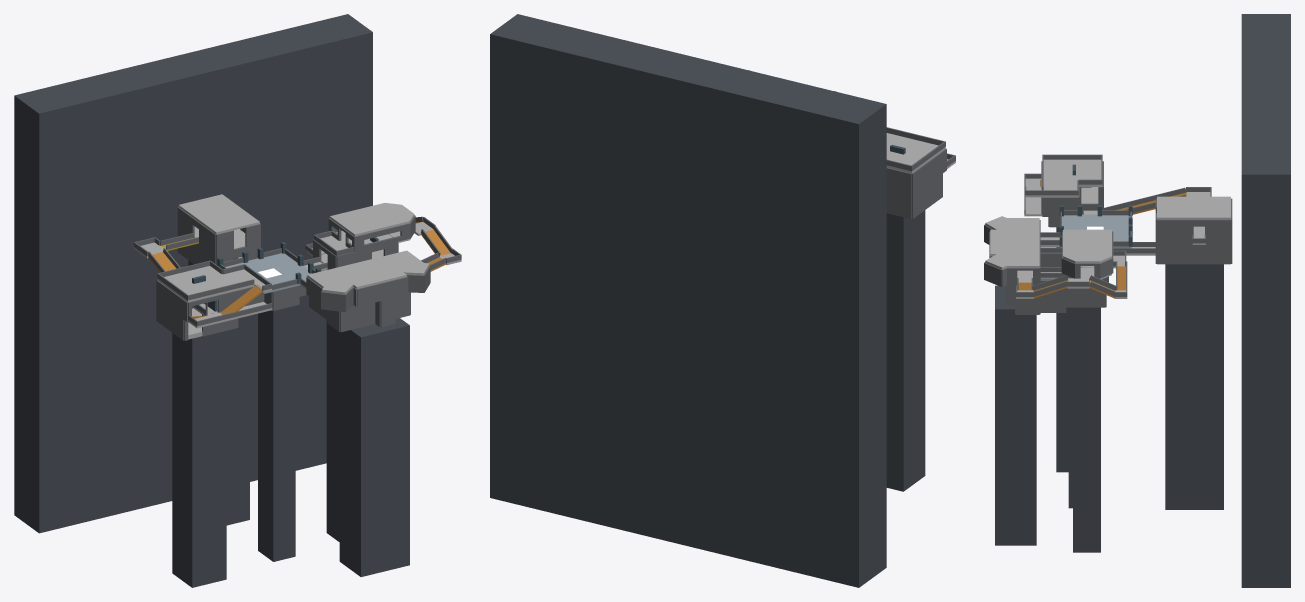
Rendered from lockout_greybox.glb.
3 renders of one model, left to right at view 1: azimuth 30°, elevation 25°; view 2: azimuth 150°, elevation 25°; view 3: azimuth 270°, elevation 25°, orthographic. The views are drawn at different scales.
Visible parts, largest first — view 1: Cliff_Face-col, Pylon_Library-col, Pylon_BR-col, Pylon_TopMid-col, Pylon_LiftTower-col, Pylon_S1-col, LiftTower_Roof_0-col, S3_Roof-col, Library_Roof_0_0-col, BR3_Roof_0-col, TopMid_Deck_0-col, Library_WallS_0-col (+5 smaller); view 2: Cliff_Face-col, Pylon_BR-col, BR3_Roof_0-col, BR2_WallW_0-col, BR1_W_0-col, BR1_N_0-col; view 3: Cliff_Face-col, Pylon_LiftTower-col, Pylon_Library-col, Pylon_S1-col, Pylon_BR-col, LiftTower_Roof_0-col, LiftTower_E_3-col, Library_Roof_0_0-col, S3_Roof-col, BR3_Roof_0-col, TopMid_Deck_0-col, LiftTower_E_0-col (+7 smaller).
Boxes of the visible parts, box(x1,y1,x2,y2) form: Cliff_Face-col: box(14, 14, 372, 533); Pylon_Library-col: box(339, 318, 409, 576); Pylon_BR-col: box(172, 331, 226, 587); Pylon_TopMid-col: box(258, 305, 295, 561); Pylon_LiftTower-col: box(188, 260, 249, 525); Pylon_S1-col: box(326, 320, 339, 541); LiftTower_Roof_0-col: box(178, 194, 259, 234); S3_Roof-col: box(330, 203, 414, 236); Library_Roof_0_0-col: box(307, 250, 422, 287); BR3_Roof_0-col: box(157, 266, 240, 302); TopMid_Deck_0-col: box(225, 253, 311, 293); Library_WallS_0-col: box(357, 277, 407, 306); Cliff_Face-col: box(490, 14, 886, 587); Pylon_BR-col: box(886, 210, 925, 491); BR3_Roof_0-col: box(886, 133, 945, 173); BR2_WallW_0-col: box(912, 149, 946, 194); BR1_W_0-col: box(912, 173, 942, 218); BR1_N_0-col: box(886, 189, 911, 218); Cliff_Face-col: box(1241, 14, 1290, 587); Pylon_LiftTower-col: box(1165, 264, 1223, 509); Pylon_Library-col: box(995, 285, 1036, 545); Pylon_S1-col: box(1073, 307, 1100, 552); Pylon_BR-col: box(1056, 227, 1068, 472); LiftTower_Roof_0-col: box(1157, 196, 1230, 219); LiftTower_E_3-col: box(1157, 219, 1193, 264); Library_Roof_0_0-col: box(1007, 218, 1039, 267); S3_Roof-col: box(1063, 229, 1111, 263); BR3_Roof_0-col: box(1043, 159, 1102, 186); TopMid_Deck_0-col: box(1060, 214, 1131, 248); LiftTower_E_0-col: box(1205, 219, 1230, 264).
Size of what is drawn, in the model's own units: 81.6 by 98 by 65.92.
